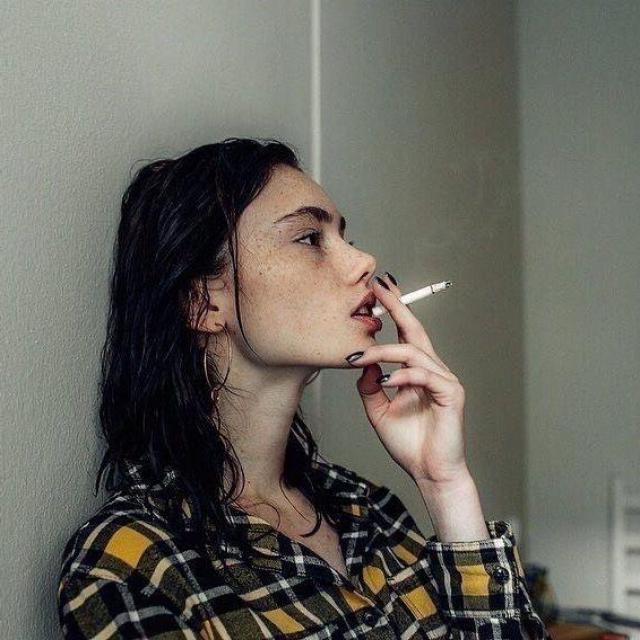cigarette: (368, 266, 454, 322)
